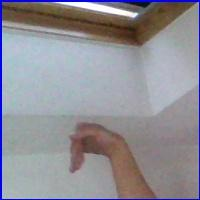del: (61, 115, 127, 174)
